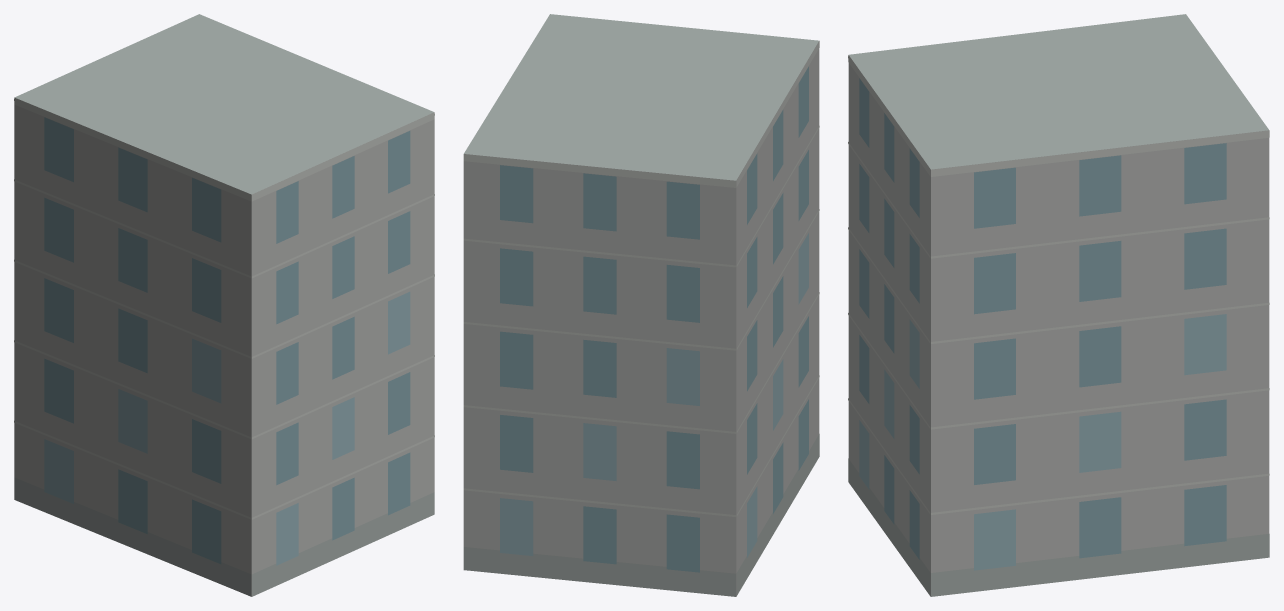
The model's file is survey-upis-32957508.glb.
The picture shows the model from 3 angles, left to right: view 1: azimuth 30°, elevation 25°; view 2: azimuth 150°, elevation 25°; view 3: azimuth 270°, elevation 25°; orthographic projection. The views are drawn at different scales.
Parts seen in each view (by area): view 1: survey-upis-32957508.tmp; view 2: survey-upis-32957508.tmp; view 3: survey-upis-32957508.tmp.
Part boxes in pixels (<box>): survey-upis-32957508.tmp: <box>14,14,434,596</box>; survey-upis-32957508.tmp: <box>463,14,819,596</box>; survey-upis-32957508.tmp: <box>848,14,1269,596</box>.
Bounding box in the file's own units: 10.88 × 13.9 × 12.44.
